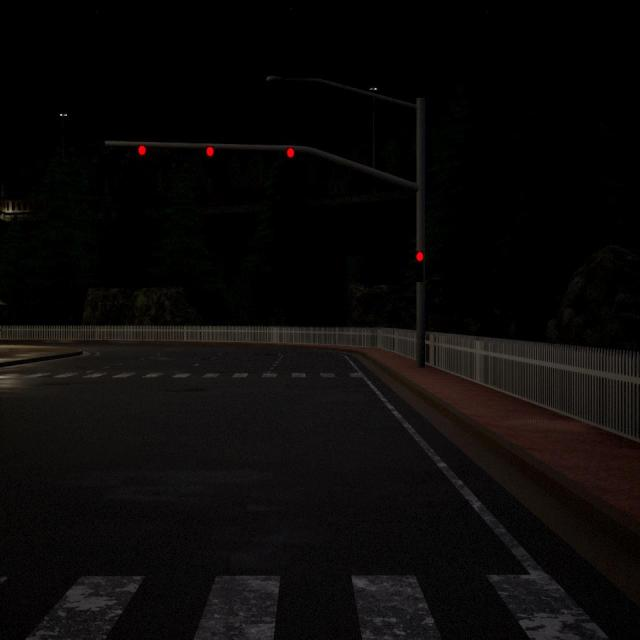traffic_light: (414, 251, 424, 280), (138, 144, 146, 156), (286, 147, 294, 159), (206, 146, 214, 157)
